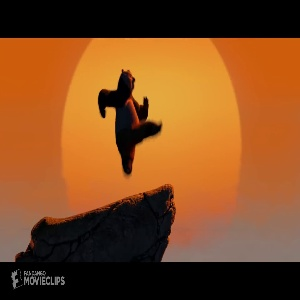po: (95, 67, 170, 178)
